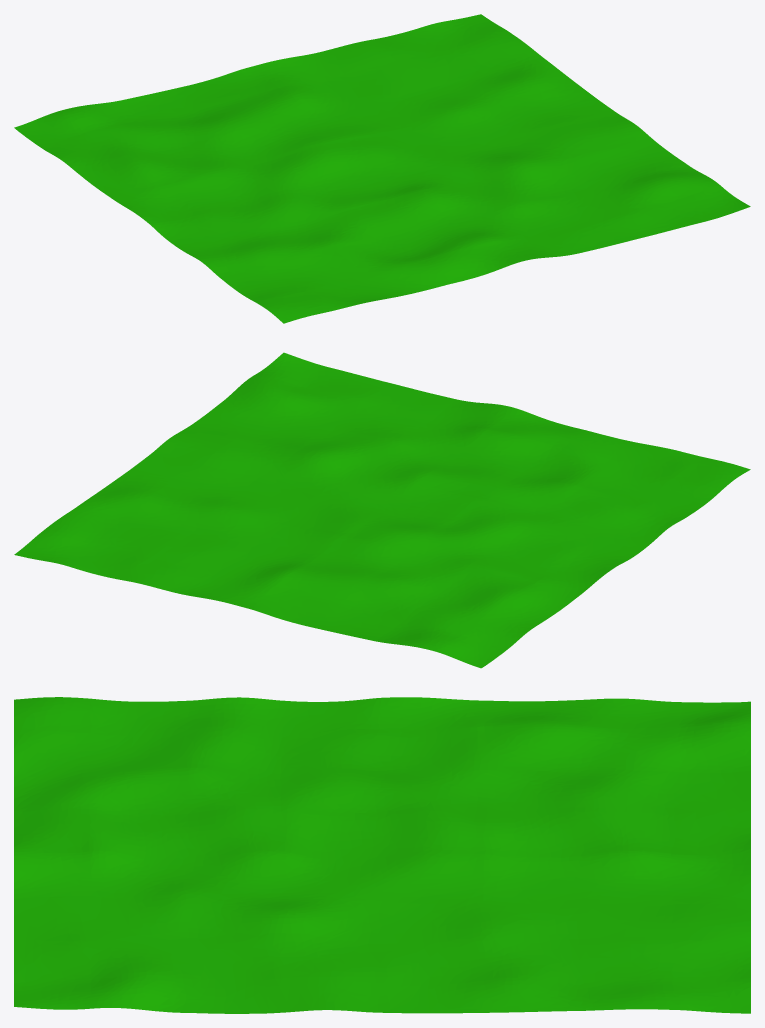
The model's file is LandScape.fbx.
3 renders of one model, top to bottom at view 1: azimuth 30°, elevation 25°; view 2: azimuth 150°, elevation 25°; view 3: azimuth 270°, elevation 25°, orthographic. The views are drawn at different scales.
Parts seen in each view (by area): view 1: Landscape; view 2: Landscape; view 3: Landscape.
Boxes of the visible parts, x1,y1,x2,y2 form: Landscape: [14, 14, 750, 323]; Landscape: [14, 352, 750, 668]; Landscape: [14, 697, 750, 1013].
Bounding box in the file's own units: 2000 × 30.1 × 2000.
